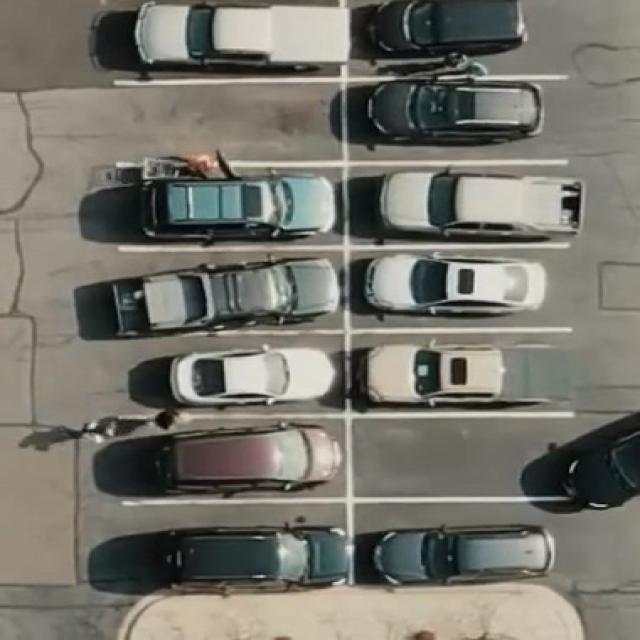space-empty: (101, 74, 345, 167), (350, 412, 564, 506)
space-occupied: (93, 498, 352, 594), (96, 242, 345, 340), (84, 411, 350, 501), (347, 320, 583, 418), (345, 158, 581, 248), (106, 160, 349, 245), (343, 71, 568, 161), (348, 240, 580, 326), (104, 0, 347, 82), (352, 497, 566, 590), (106, 334, 352, 412), (347, 0, 532, 72)
